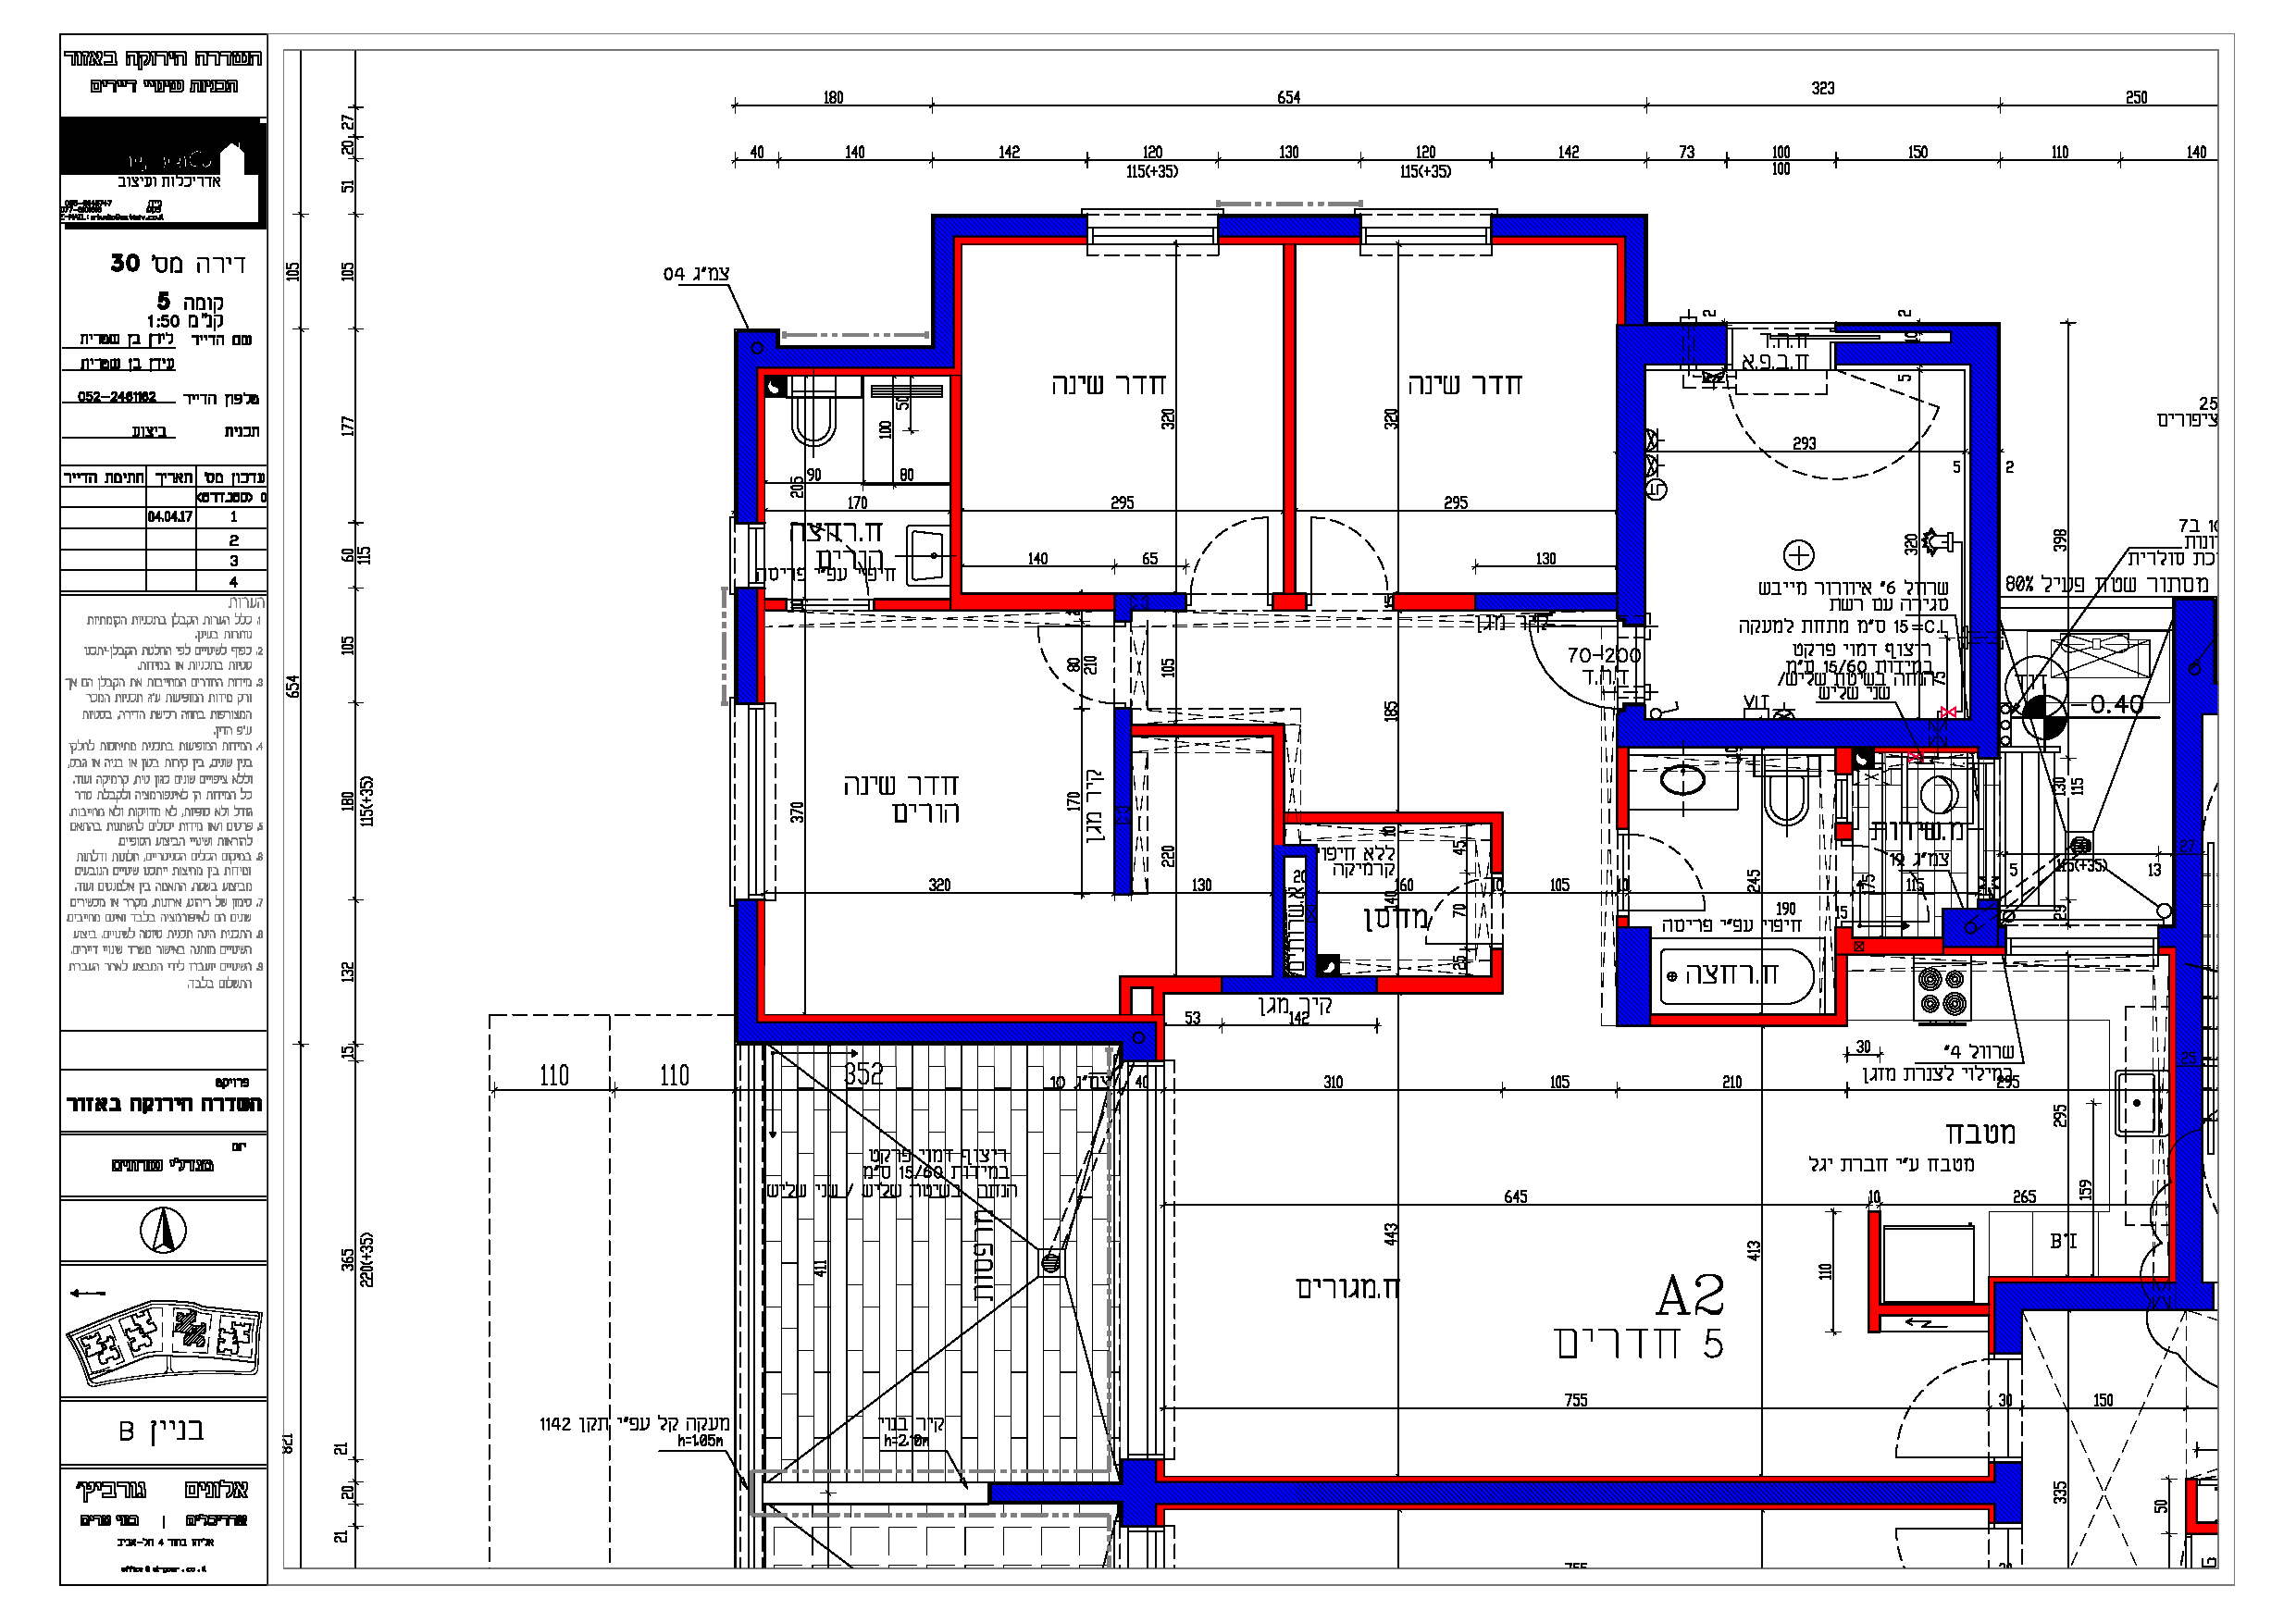door: (1867, 1351, 1976, 1465), (1029, 617, 1103, 710), (1191, 513, 1275, 590), (1305, 513, 1390, 583)
wall: (1161, 1481, 1616, 1505), (736, 1022, 1128, 1043), (1620, 718, 1910, 747), (1971, 327, 1999, 617), (2177, 676, 2203, 968), (1618, 327, 1644, 606), (1613, 1482, 2020, 1500), (993, 1484, 1261, 1504), (1286, 246, 1296, 592), (736, 334, 755, 515), (2178, 1145, 2199, 1309), (757, 1013, 1149, 1022), (956, 592, 1112, 611), (766, 350, 935, 367), (935, 218, 954, 367), (1495, 216, 1644, 235), (1219, 216, 1361, 235), (1223, 975, 1377, 992), (952, 376, 963, 594), (1625, 218, 1646, 323), (736, 901, 754, 1024), (1379, 977, 1500, 994), (1124, 1463, 1154, 1523), (1994, 1463, 2024, 1523), (1309, 813, 1498, 822), (1274, 845, 1284, 991), (1117, 710, 1131, 806), (1133, 725, 1281, 734), (1116, 822, 1133, 894), (1274, 727, 1284, 843), (1869, 1212, 1880, 1328), (1873, 1305, 1987, 1316), (1154, 977, 1219, 992), (1119, 977, 1130, 1013)
window: (720, 703, 782, 903), (1361, 204, 1493, 265), (1086, 202, 1219, 262)
